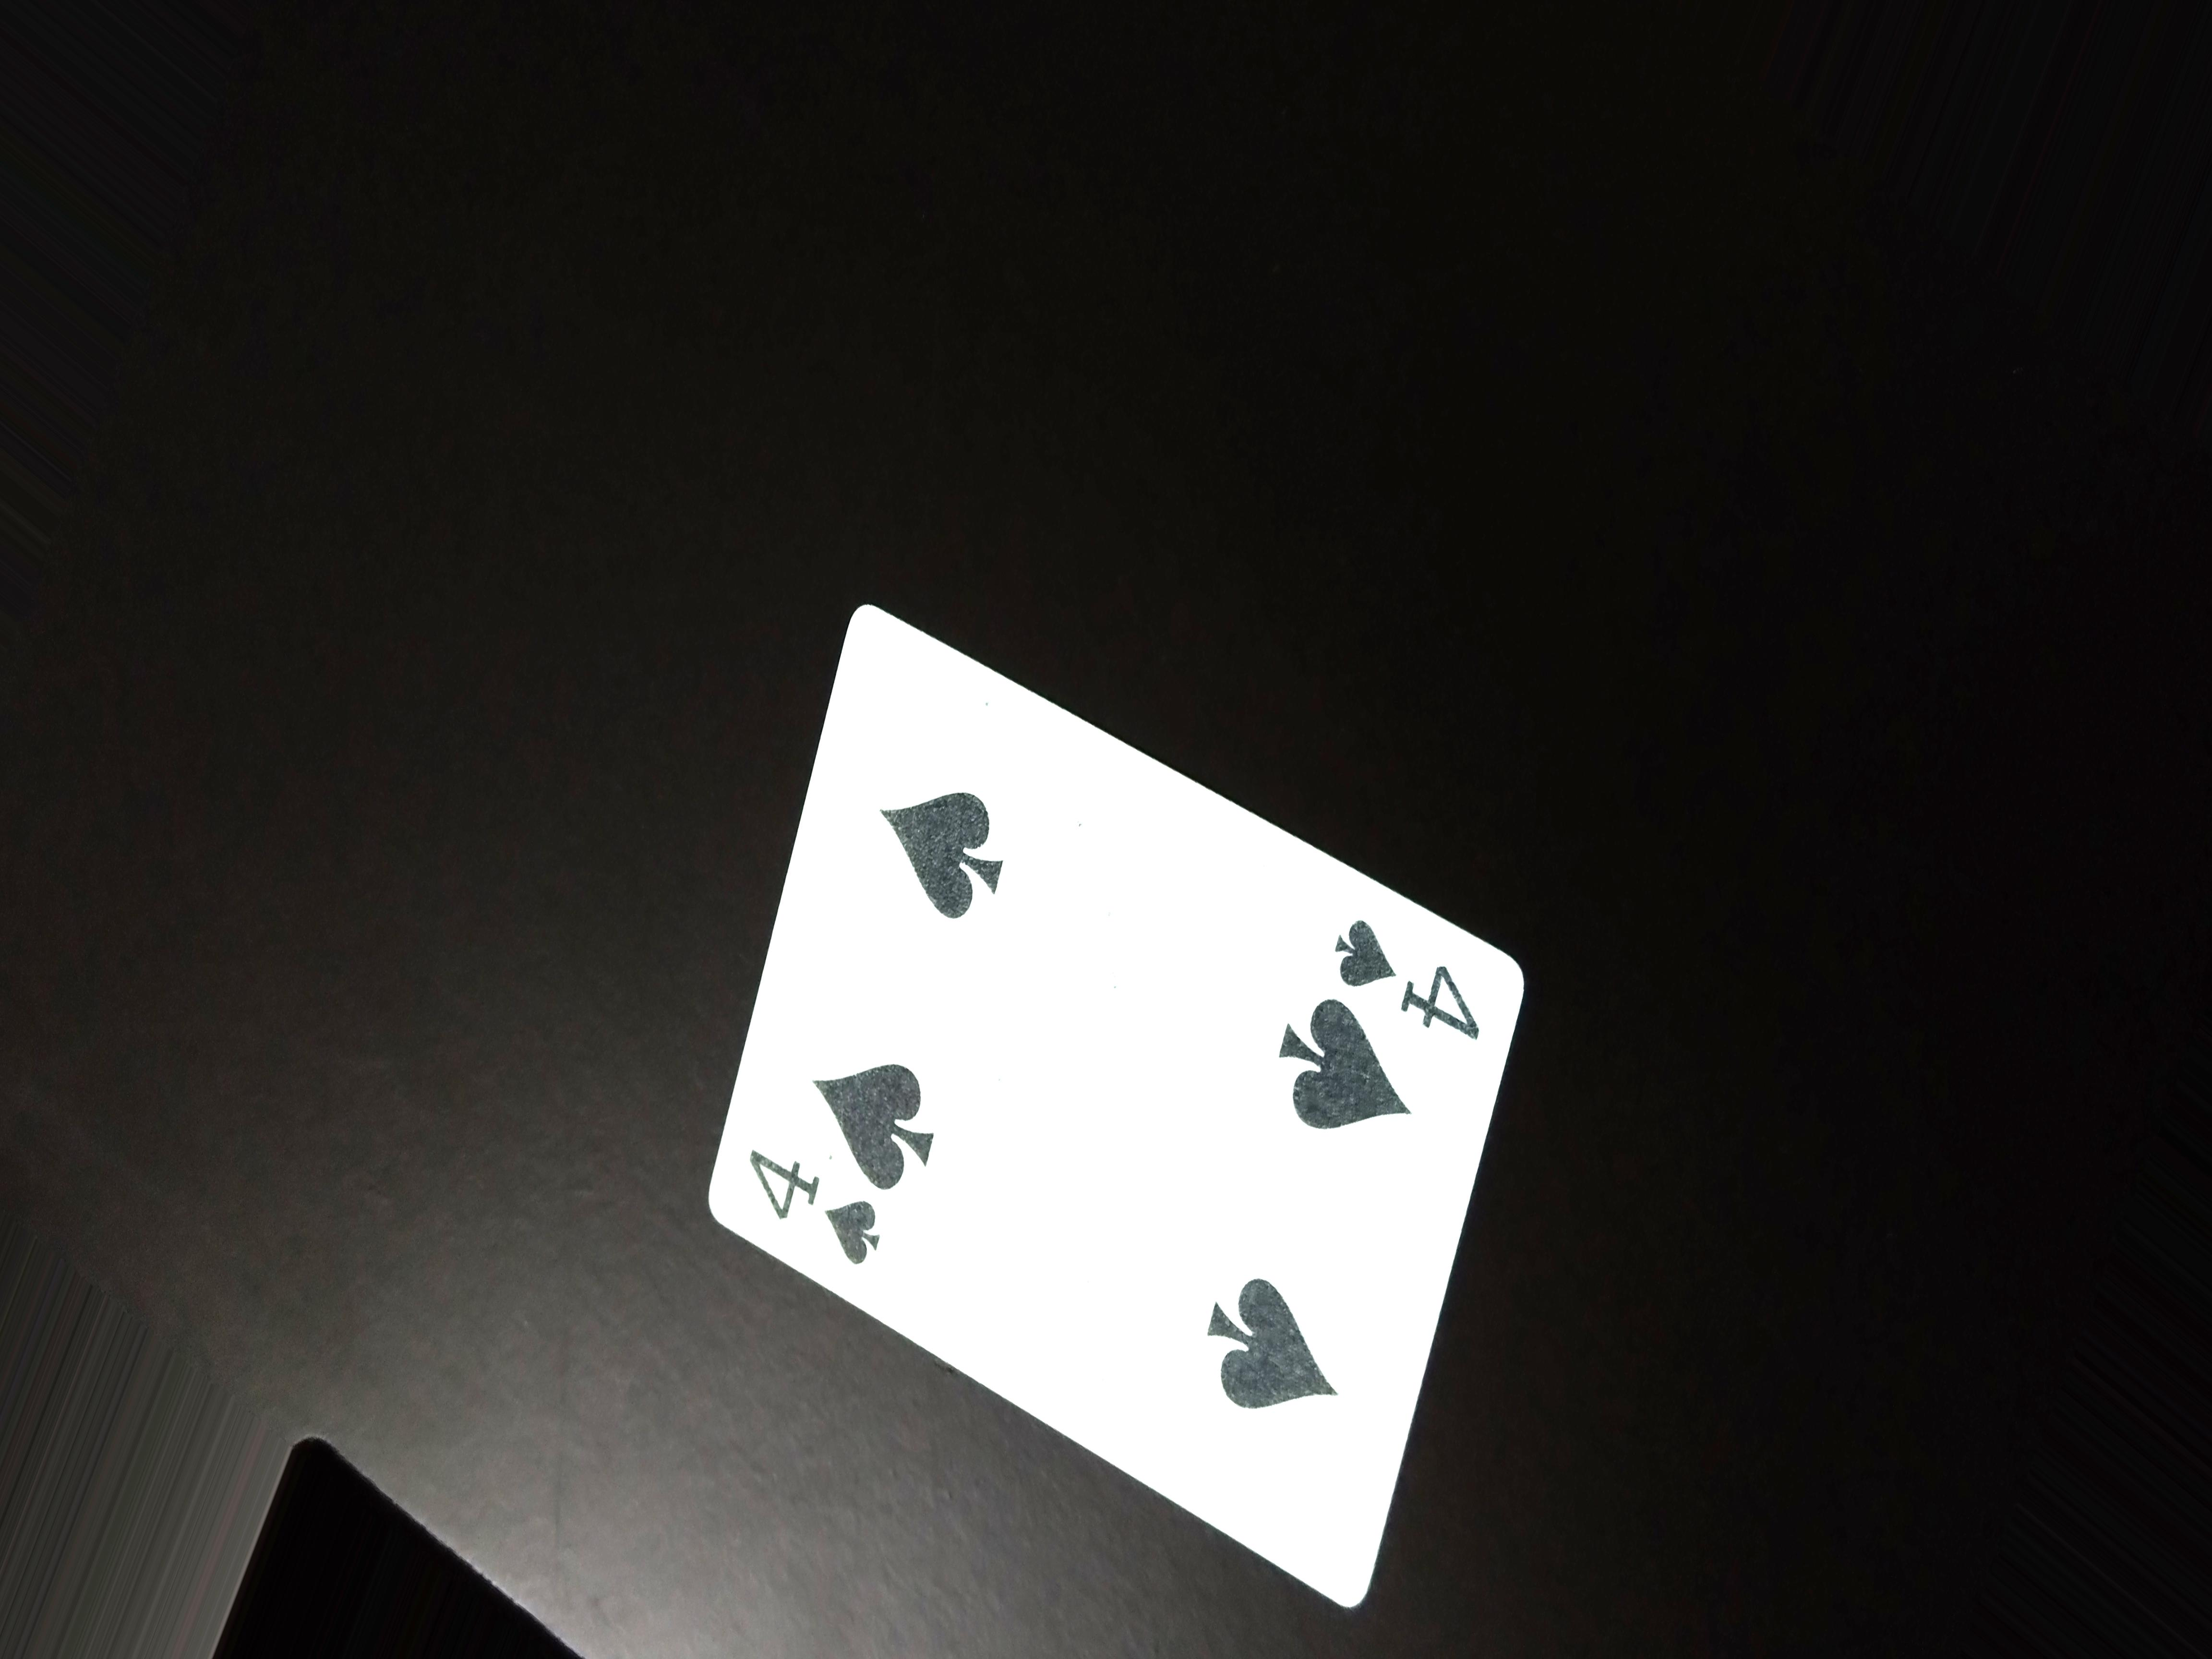4S: (738, 1124, 895, 1274)
